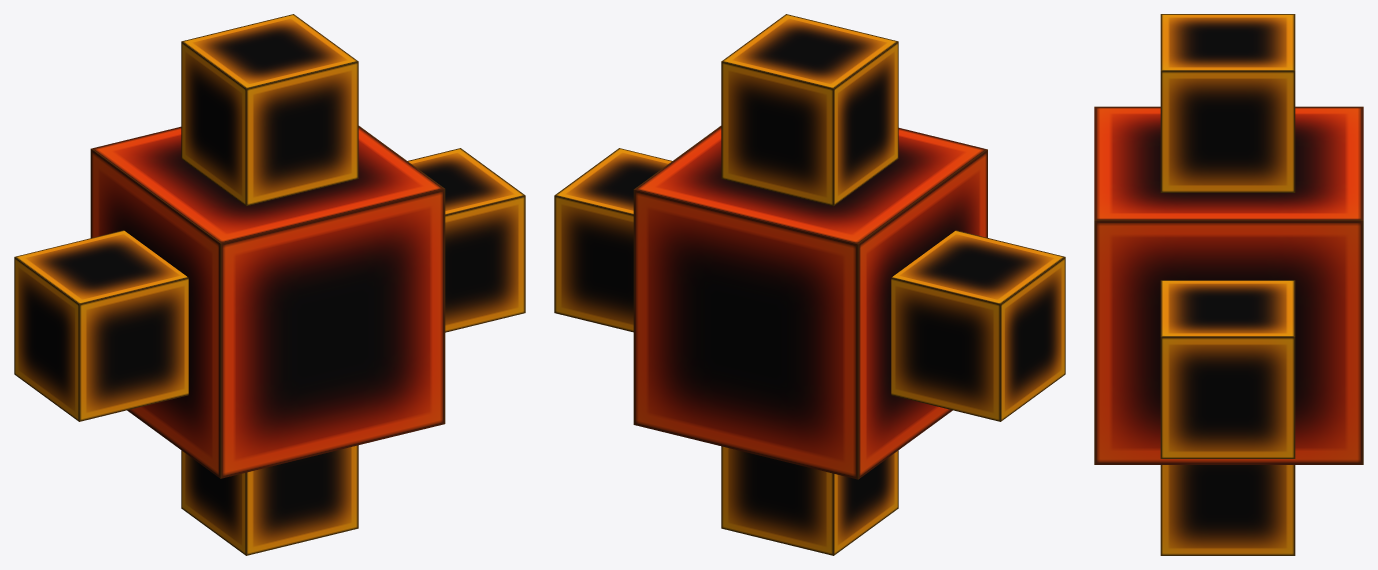
Rendered from Enemy.FBX.
The picture shows the model from 3 angles, left to right: view 1: azimuth 30°, elevation 25°; view 2: azimuth 150°, elevation 25°; view 3: azimuth 270°, elevation 25°; orthographic projection. The views are drawn at different scales.
Parts seen in each view (by area): view 1: Box001; view 2: Box001; view 3: Box001.
Part boxes in pixels (<box>): Box001: <box>14,14,525,555</box>; Box001: <box>554,14,1065,555</box>; Box001: <box>1094,14,1363,555</box>.
Bounding box in the file's own units: 39.71 × 39.71 × 20.
1 material, 1 textured.
